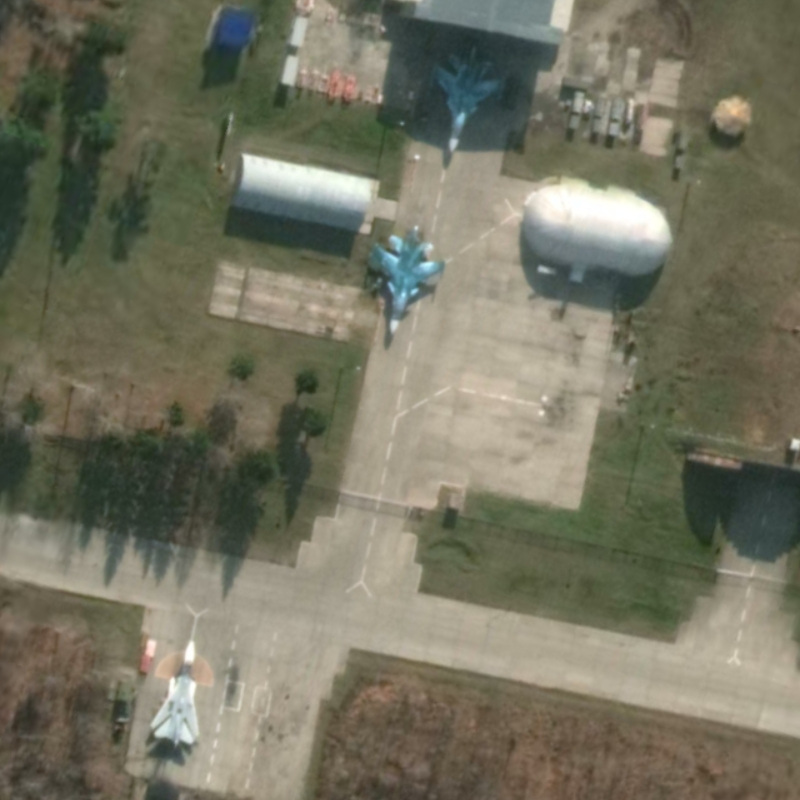A19: (366, 223, 448, 337), (427, 44, 508, 157)
A20: (146, 637, 203, 750)
